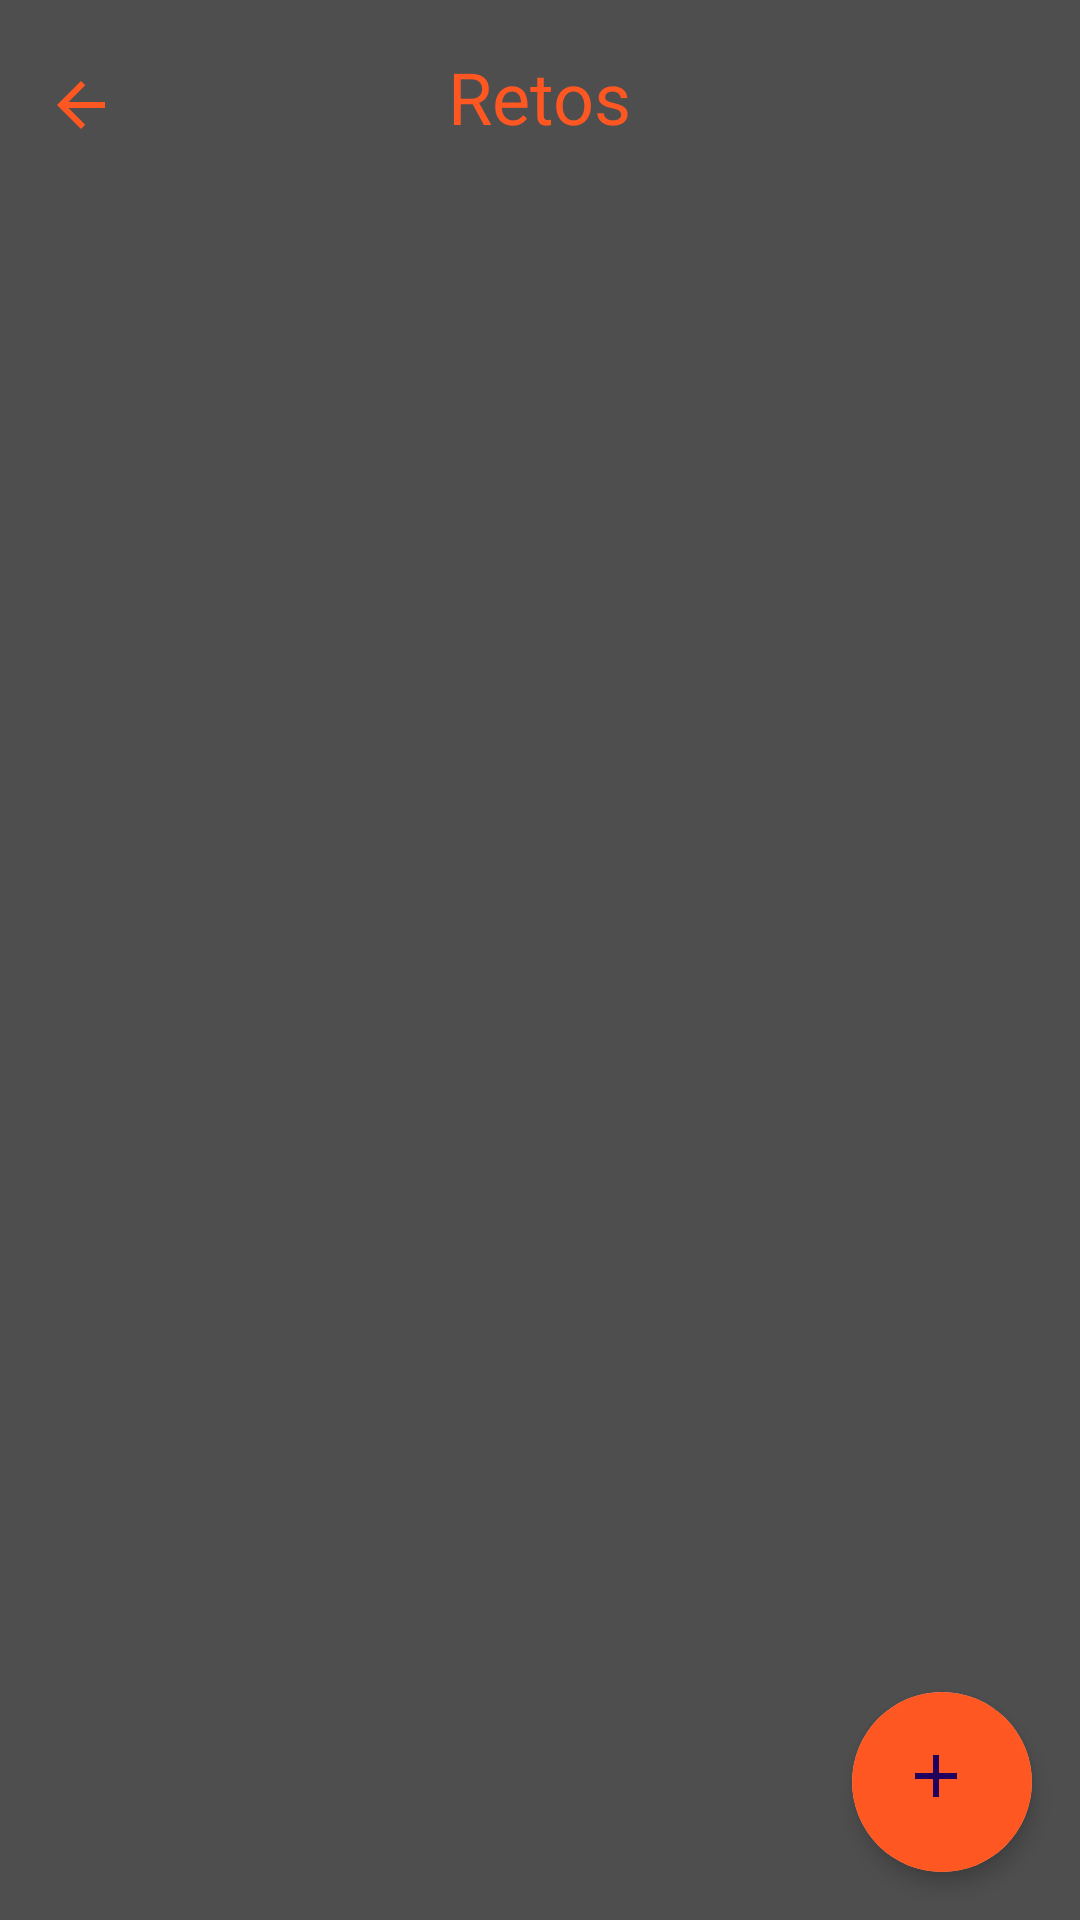

Screen size 1080w x 1920h. Icon name, then its box in pixels as box=[x1, y1, x2, y2]:
add: box=[852, 1692, 1032, 1872]
back: box=[57, 81, 105, 129]
